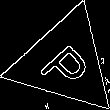P_NE: (33, 31, 96, 93)
